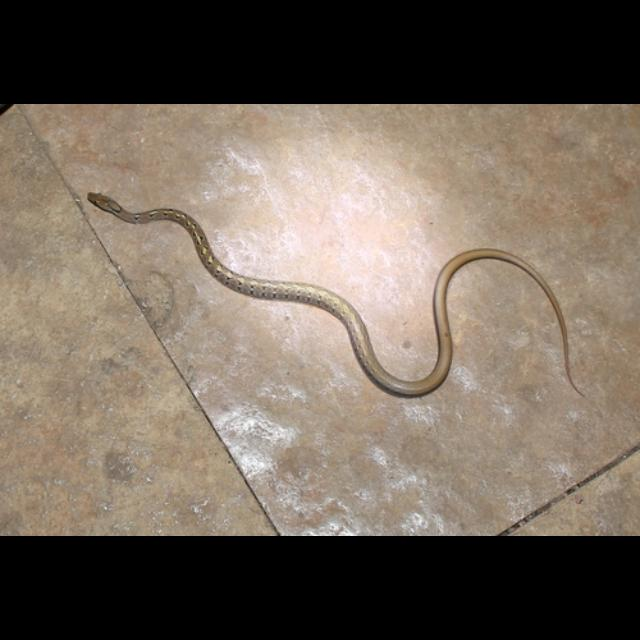snake: (80, 184, 584, 404)
